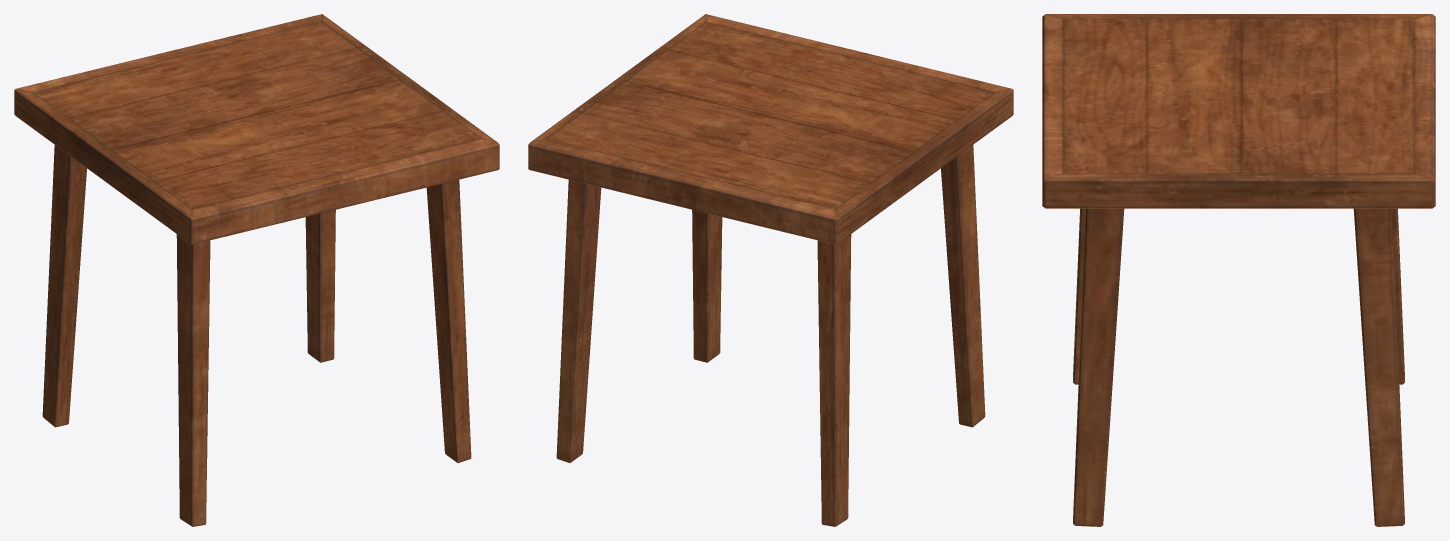
Rendered from ph-wooden-table-02.glb.
3 renders of one model, left to right at view 1: azimuth 30°, elevation 25°; view 2: azimuth 150°, elevation 25°; view 3: azimuth 270°, elevation 25°, orthographic. The views are drawn at different scales.
Visible parts, largest first — view 1: wooden_table_02; view 2: wooden_table_02; view 3: wooden_table_02.
Boxes of the visible parts, left/top/right/bottom form: wooden_table_02: left=14, top=14, right=499, bottom=526; wooden_table_02: left=528, top=14, right=1013, bottom=526; wooden_table_02: left=1042, top=14, right=1435, bottom=526.
Size of the model in its own units: 1 by 1 by 1.
Materials: 1 (1 with a texture image).
